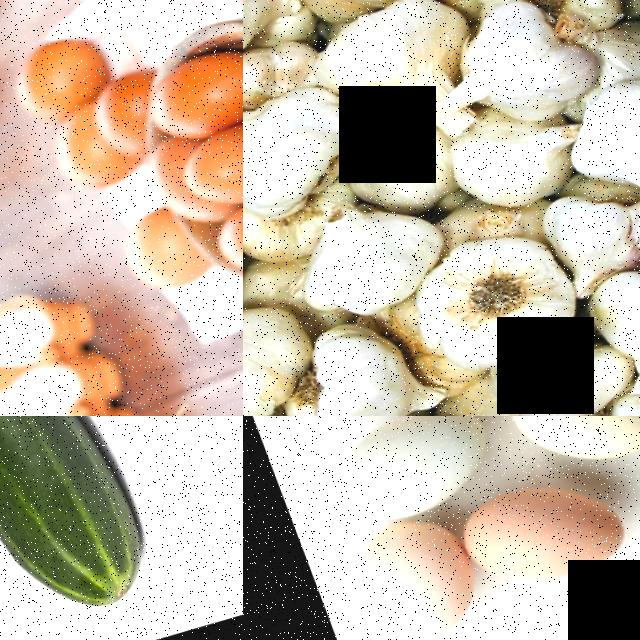cucumber: (0, 416, 158, 640)
egg_: (441, 461, 631, 604), (307, 416, 503, 533), (328, 504, 482, 640), (129, 35, 243, 146), (485, 416, 640, 486), (0, 25, 112, 113), (103, 202, 196, 302), (163, 121, 243, 217), (34, 110, 113, 200), (197, 178, 243, 288)
garlic: (386, 217, 588, 387), (273, 189, 447, 326), (294, 0, 480, 127), (440, 0, 603, 133), (243, 73, 373, 230), (431, 102, 588, 224), (268, 307, 434, 416), (539, 63, 640, 199), (563, 240, 640, 387), (243, 292, 315, 416)
